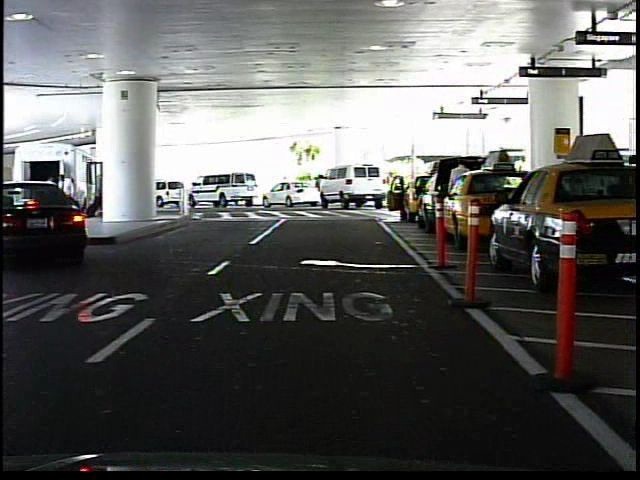person: (446, 155, 475, 232), (275, 172, 291, 204)
